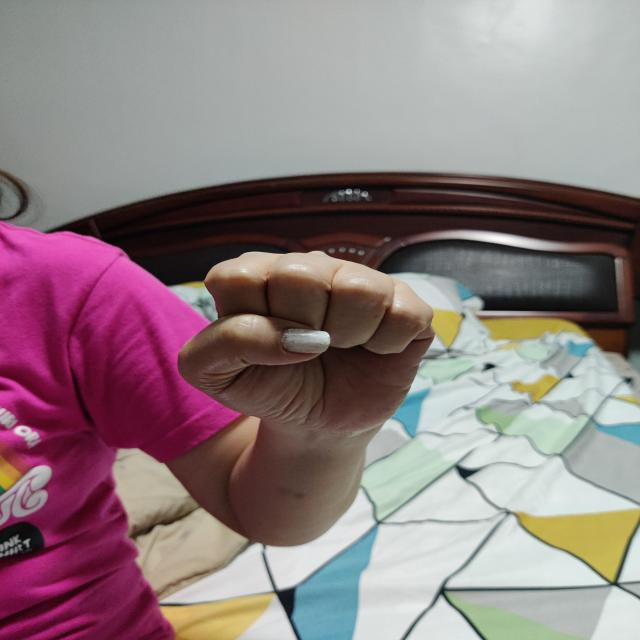S: (176, 250, 436, 436)
